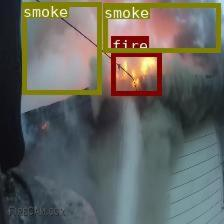fire: (110, 52, 161, 94)
smoke: (22, 1, 100, 94), (102, 3, 220, 51)
